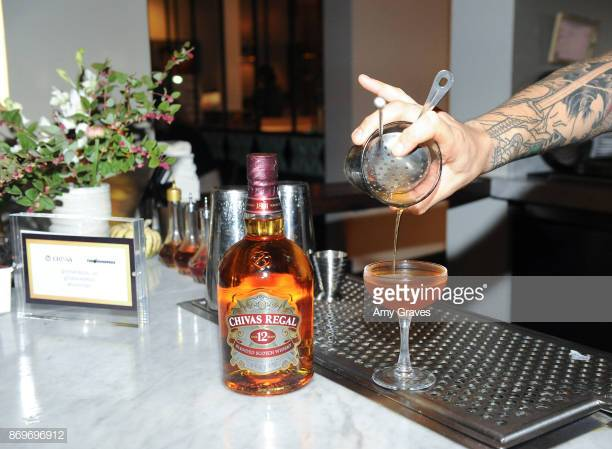Chivas Regal: (214, 149, 319, 400)
